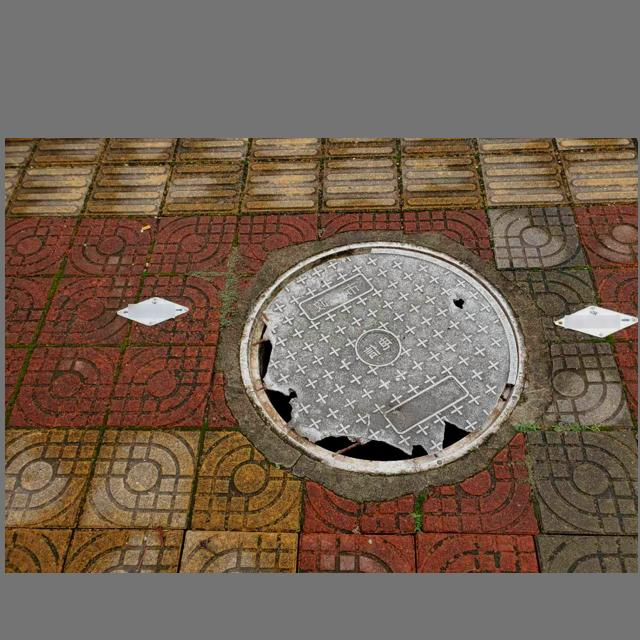broke: (239, 240, 529, 477)
